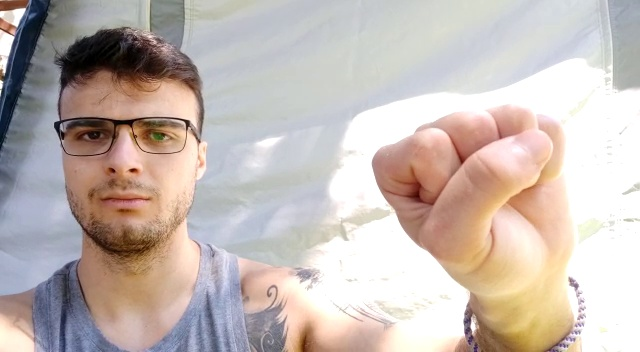Fist: (366, 98, 572, 270)
